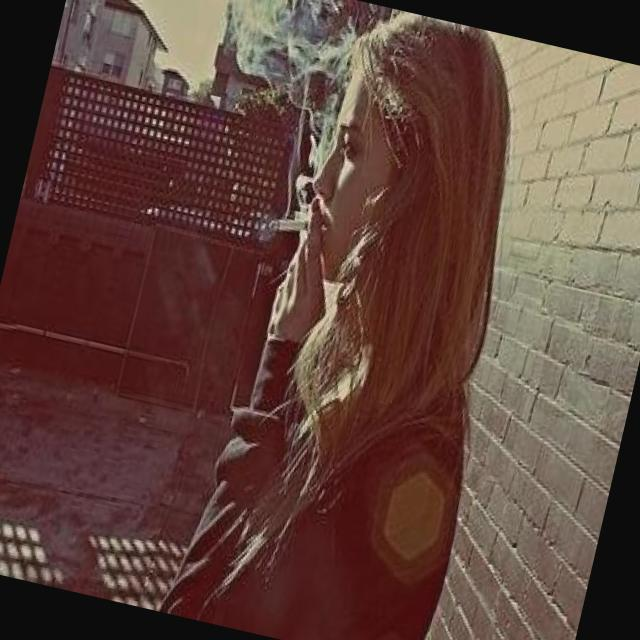smoke: (268, 207, 316, 242)
